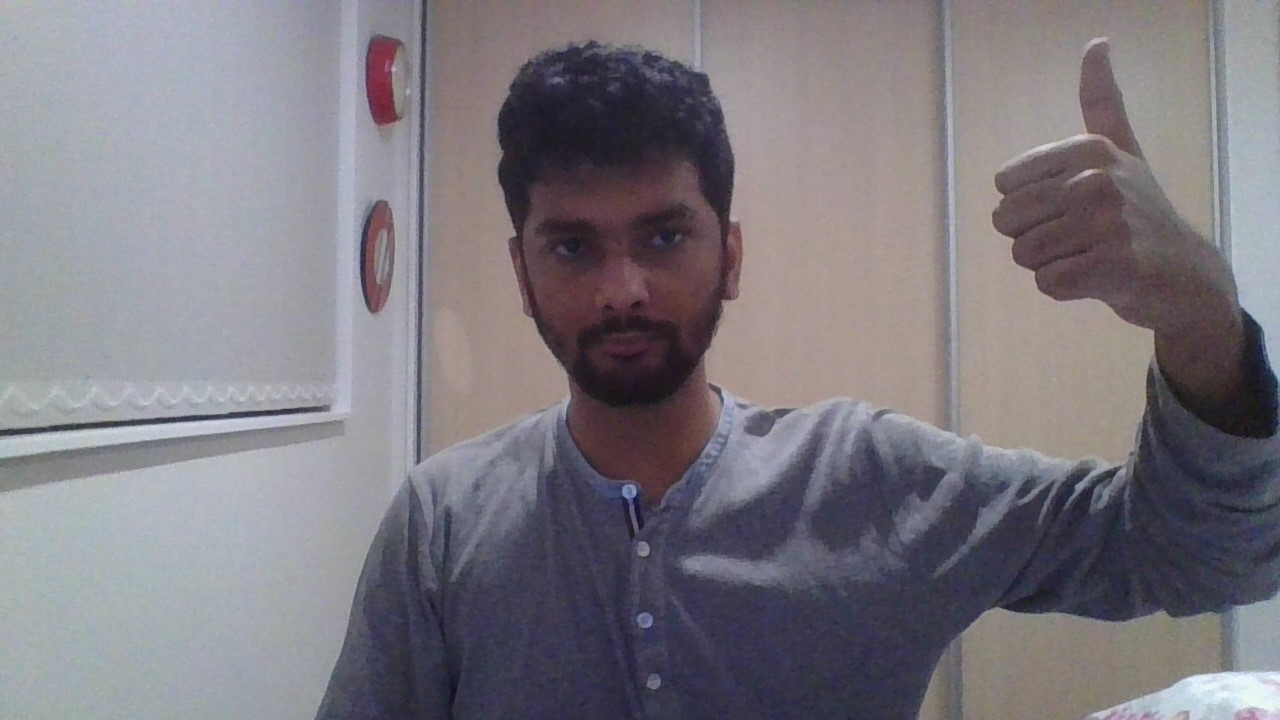good: (993, 38, 1240, 342)
